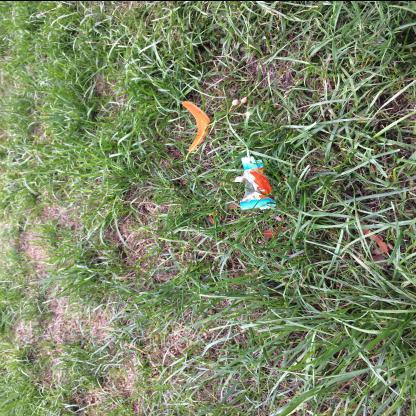plastik: (236, 156, 278, 210)
